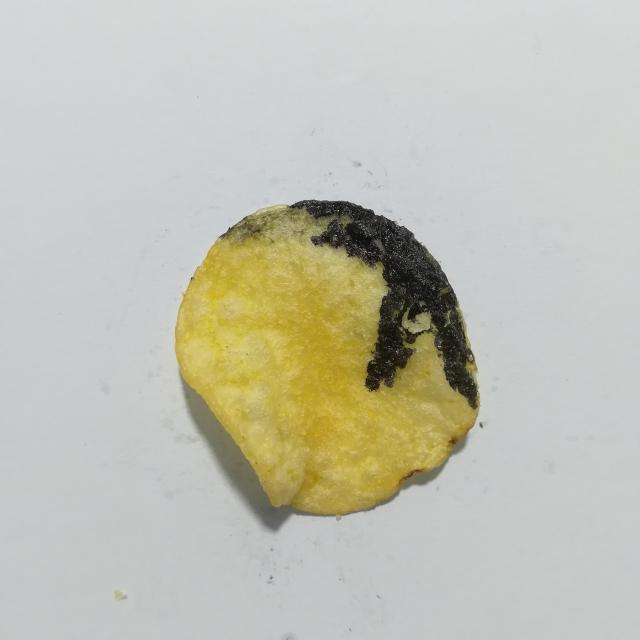chip: (175, 200, 480, 515)
damaged: (290, 200, 478, 409)
semi-damaged: (219, 205, 336, 243)
